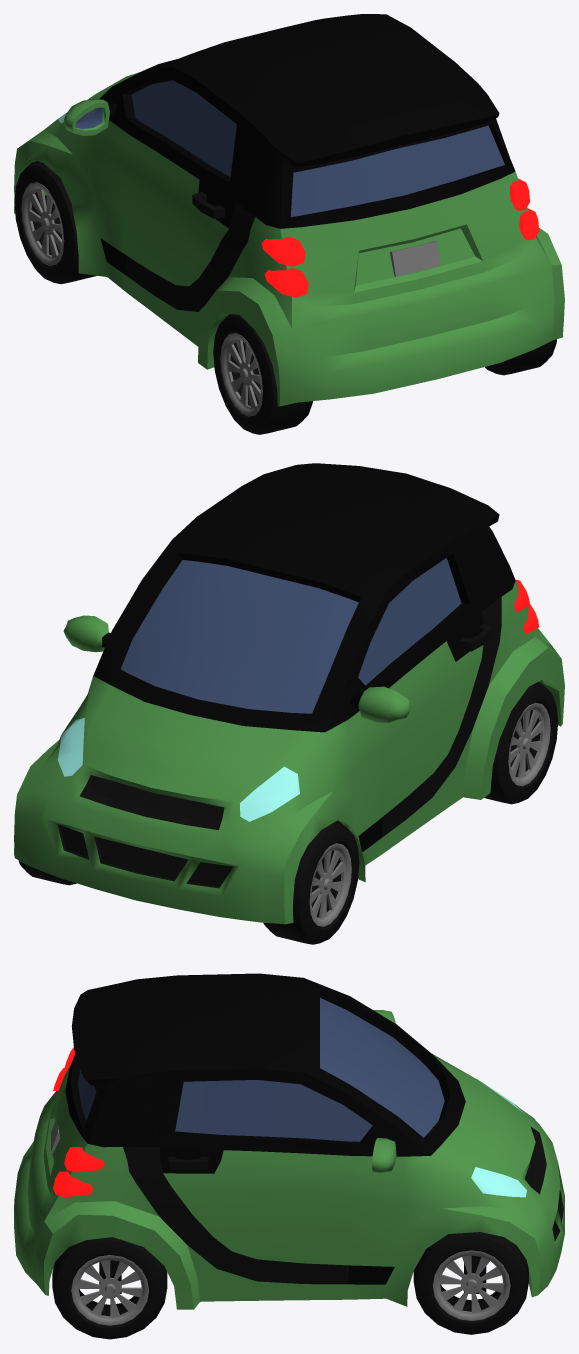
File: cute_smart_car.glb
The picture shows the model from 3 angles, top to bottom: view 1: azimuth 30°, elevation 25°; view 2: azimuth 150°, elevation 25°; view 3: azimuth 270°, elevation 25°; orthographic projection. The views are drawn at different scales.
Visible parts, largest first — view 1: group5_pCube21, pCylinder18, pCylinder16, pCylinder15, pCylinder17, pCube28, pCube26, pCylinder13, pCube29, pCube27; view 2: group5_pCube21, pCylinder16, pCylinder18, pCylinder17, pCylinder15, pCube28, pCube25; view 3: group5_pCube21, pCylinder11, pCylinder13, pCylinder14, pCylinder12, pCube25, pCube23, pCube24, pCube21.
Part boxes in pixels (x1=…): group5_pCube21: x1=14, y1=14, x2=564, y2=406; pCylinder18: x1=213, y1=314, x2=312, y2=434; pCylinder16: x1=14, y1=161, x2=96, y2=284; pCylinder15: x1=21, y1=182, x2=64, y2=265; pCylinder17: x1=220, y1=333, x2=262, y2=416; pCube28: x1=63, y1=99, x2=116, y2=135; pCube26: x1=390, y1=241, x2=440, y2=276; pCylinder13: x1=485, y1=339, x2=556, y2=375; pCube29: x1=261, y1=236, x2=305, y2=266; pCube27: x1=264, y1=268, x2=308, y2=297; group5_pCube21: x1=14, y1=463, x2=564, y2=924; pCylinder16: x1=263, y1=821, x2=359, y2=944; pCylinder18: x1=484, y1=682, x2=558, y2=804; pCylinder17: x1=508, y1=702, x2=550, y2=786; pCylinder15: x1=309, y1=843, x2=351, y2=926; pCube28: x1=350, y1=686, x2=410, y2=722; pCube25: x1=63, y1=615, x2=110, y2=652; group5_pCube21: x1=14, y1=973, x2=564, y2=1309; pCylinder11: x1=413, y1=1232, x2=528, y2=1334; pCylinder13: x1=52, y1=1237, x2=167, y2=1339; pCylinder14: x1=71, y1=1255, x2=148, y2=1325; pCylinder12: x1=432, y1=1250, x2=510, y2=1320; pCube25: x1=372, y1=1138, x2=396, y2=1172; pCube23: x1=64, y1=1147, x2=104, y2=1172; pCube24: x1=53, y1=1171, x2=93, y2=1196; pCube21: x1=167, y1=1157, x2=208, y2=1170.
Size of the model in its own units: 5.94 by 4.9 by 9.09.
